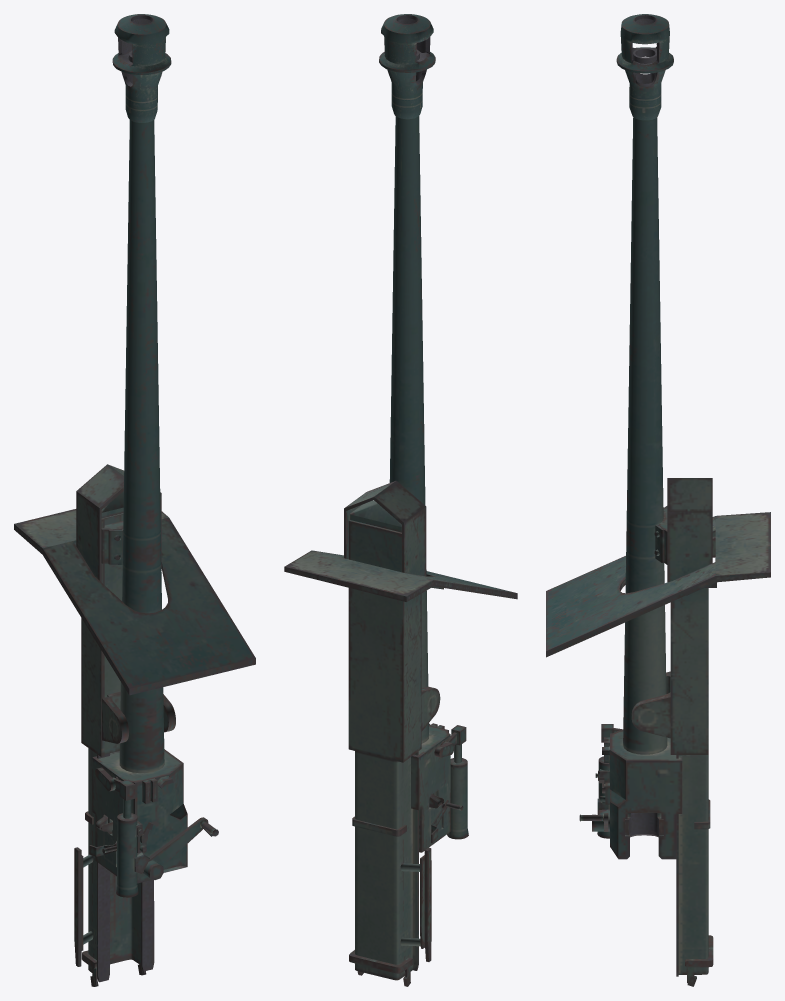
The model's file is Gun_01.glb.
3 renders of one model, left to right at view 1: azimuth 30°, elevation 25°; view 2: azimuth 150°, elevation 25°; view 3: azimuth 270°, elevation 25°, orthographic. The views are drawn at different scales.
Parts seen in each view (by area): view 1: set_0_group_0; view 2: set_0_group_0; view 3: set_0_group_0.
Boxes of the visible parts, x1,y1,x2,y2 form: set_0_group_0: [14, 14, 255, 986]; set_0_group_0: [284, 14, 517, 986]; set_0_group_0: [546, 14, 770, 986].
Size of the model in its own units: 0.5874 by 4.33 by 0.9249.
1 material, 1 textured.
